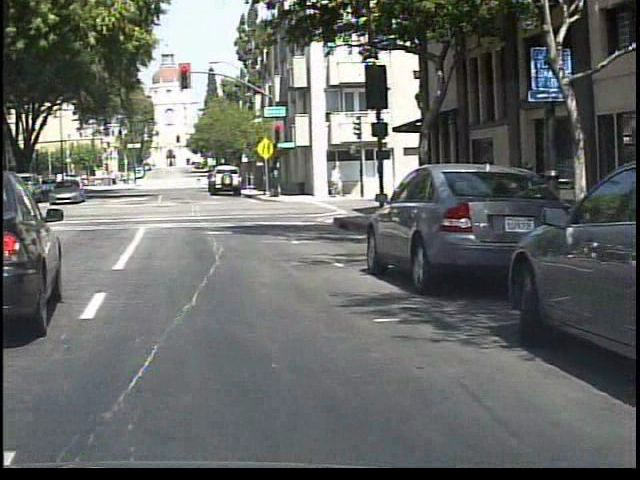person: (10, 172, 31, 212), (193, 174, 207, 191), (2, 175, 3, 212)
